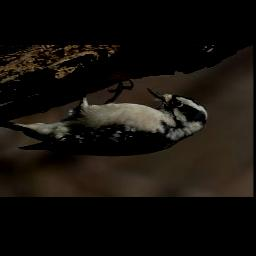Woodpecker: (0, 79, 207, 156)
